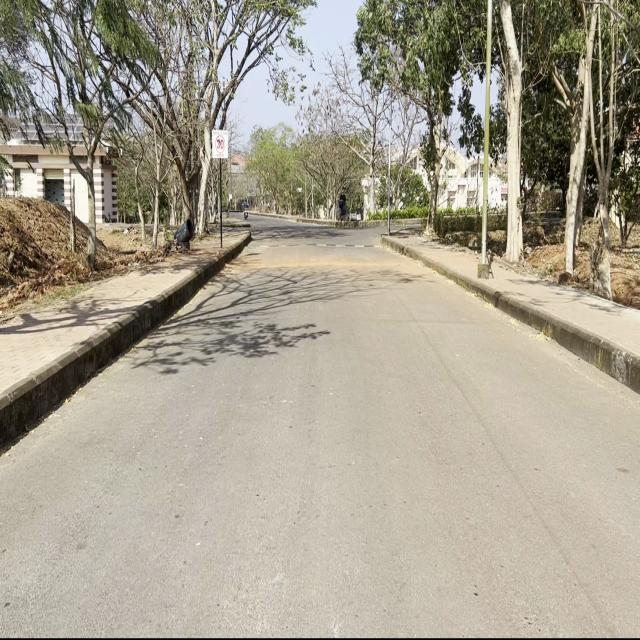Road: (2, 218, 638, 634)
